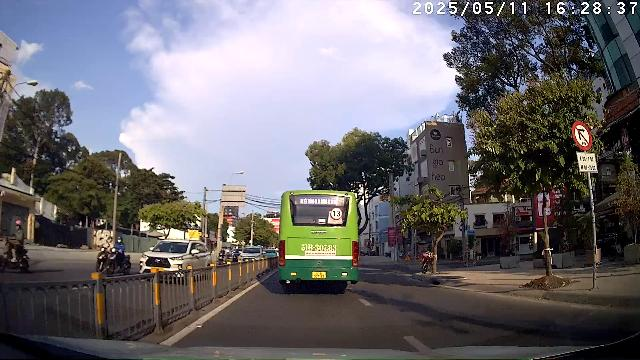103b-cam-oto-re-phai: (572, 121, 592, 151)
